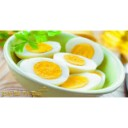begg: (20, 58, 69, 85), (73, 59, 105, 88), (67, 37, 105, 57)
